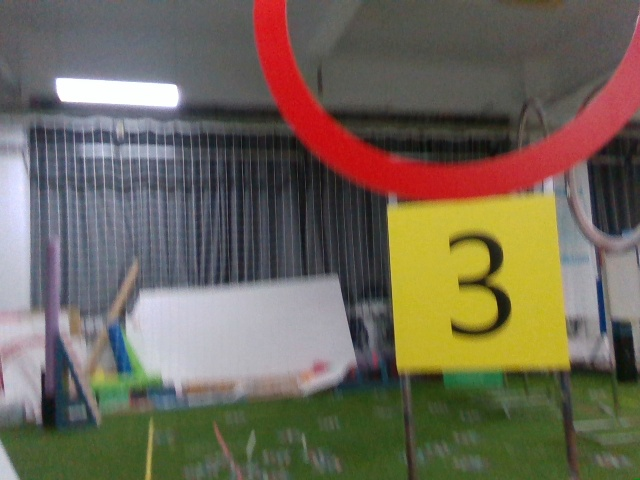target: (389, 199, 565, 366)
